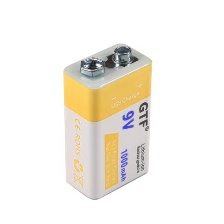battery: (60, 41, 154, 201)
